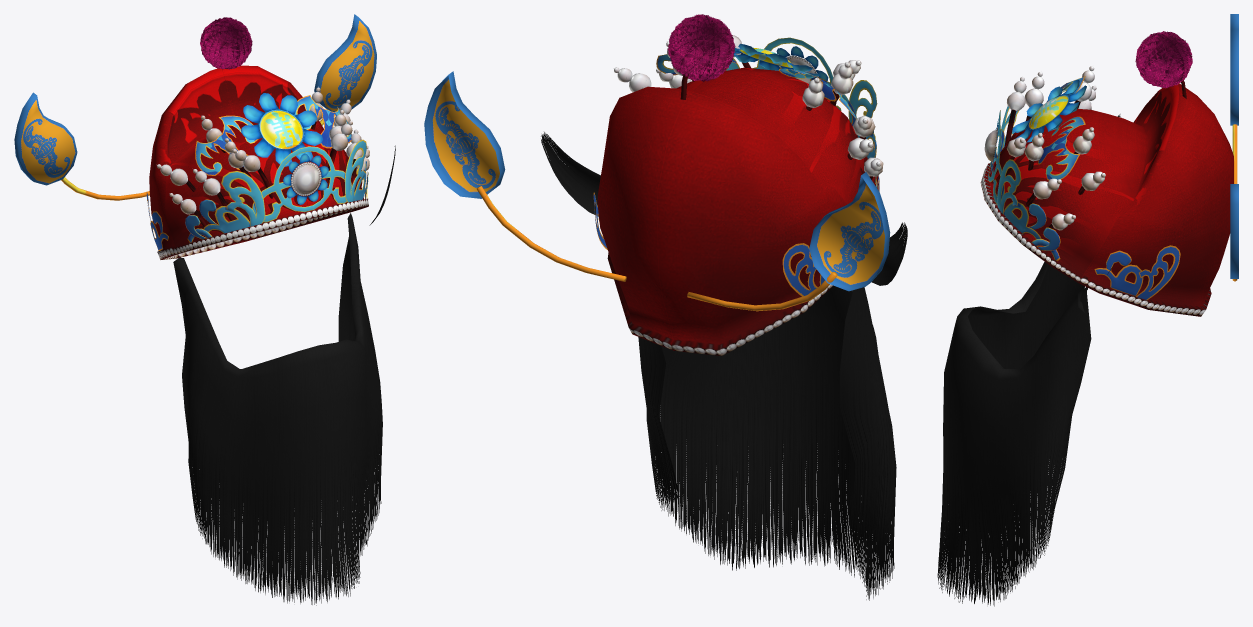
Rendered from ZhongKui_01.FBX.
The picture shows the model from 3 angles, left to right: view 1: azimuth 30°, elevation 25°; view 2: azimuth 150°, elevation 25°; view 3: azimuth 270°, elevation 25°; orthographic projection. The views are drawn at different scales.
Visible parts, largest first — view 1: Object006; view 2: Object006; view 3: Object006.
Part boxes in pixels (left/top/right/bottom): Object006: left=14, top=14, right=395, bottom=605; Object006: left=424, top=14, right=907, bottom=600; Object006: left=937, top=14, right=1238, bottom=606.
Size of the model in its own units: 797 by 1091 by 538.
1 material, 1 textured.
